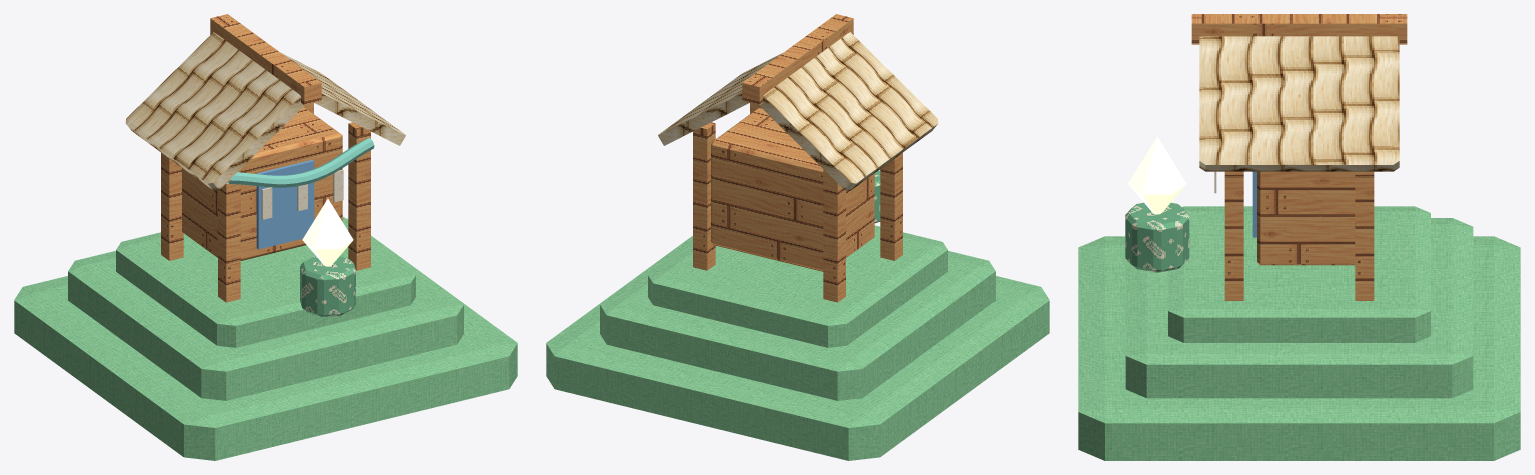
Rendered from shrine.glb.
The picture shows the model from 3 angles, left to right: view 1: azimuth 30°, elevation 25°; view 2: azimuth 150°, elevation 25°; view 3: azimuth 270°, elevation 25°; orthographic projection. The views are drawn at different scales.
Parts seen in each view (by area): view 1: Plinth0, Plinth1, Plinth2, Roof-1, Body, Door, Ridge, Offering, Post.002, Post, Roof1, Post.001 (+2 smaller); view 2: Plinth0, Plinth1, Plinth2, Body, Roof-1, Ridge, Post.003, Post.001, Roof1, Post; view 3: Plinth0, Plinth1, Roof1, Plinth2, Body, Ridge, Offering, Post.002, Post.003, Crystal.
Boxes of the visible parts, bbox=[...] form: Plinth0: bbox=[14, 218, 517, 460]; Plinth1: bbox=[68, 216, 463, 400]; Plinth2: bbox=[116, 222, 415, 347]; Roof-1: bbox=[125, 32, 304, 190]; Body: bbox=[182, 106, 342, 260]; Door: bbox=[256, 159, 314, 249]; Ridge: bbox=[210, 14, 321, 105]; Offering: bbox=[300, 255, 355, 316]; Post.002: bbox=[348, 122, 370, 270]; Post: bbox=[218, 169, 240, 302]; Roof1: bbox=[281, 53, 405, 145]; Post.001: bbox=[161, 152, 183, 260]; Plinth0: bbox=[546, 236, 1049, 460]; Plinth1: bbox=[600, 237, 995, 400]; Plinth2: bbox=[648, 225, 947, 347]; Body: bbox=[711, 108, 874, 271]; Roof-1: bbox=[759, 32, 938, 190]; Ridge: bbox=[742, 14, 853, 105]; Post.003: bbox=[693, 122, 715, 270]; Post.001: bbox=[823, 169, 845, 302]; Roof1: bbox=[658, 53, 782, 145]; Post: bbox=[880, 152, 902, 260]; Plinth0: bbox=[1078, 236, 1520, 460]; Plinth1: bbox=[1125, 218, 1473, 398]; Roof1: bbox=[1199, 36, 1399, 171]; Plinth2: bbox=[1168, 206, 1430, 342]; Body: bbox=[1257, 171, 1355, 265]; Ridge: bbox=[1191, 14, 1407, 44]; Offering: bbox=[1125, 202, 1189, 272]; Post.002: bbox=[1224, 171, 1243, 300]; Post.003: bbox=[1355, 171, 1374, 300]; Crystal: bbox=[1128, 136, 1186, 214].
Size of the model in its own units: 4.2 by 3.68 by 4.2.
Materials: 8 (5 with a texture image).
